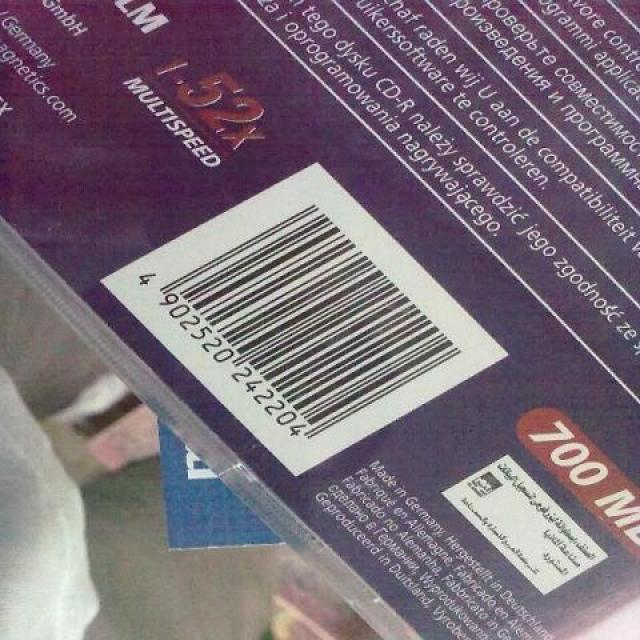Barcode: (99, 160, 509, 477)
